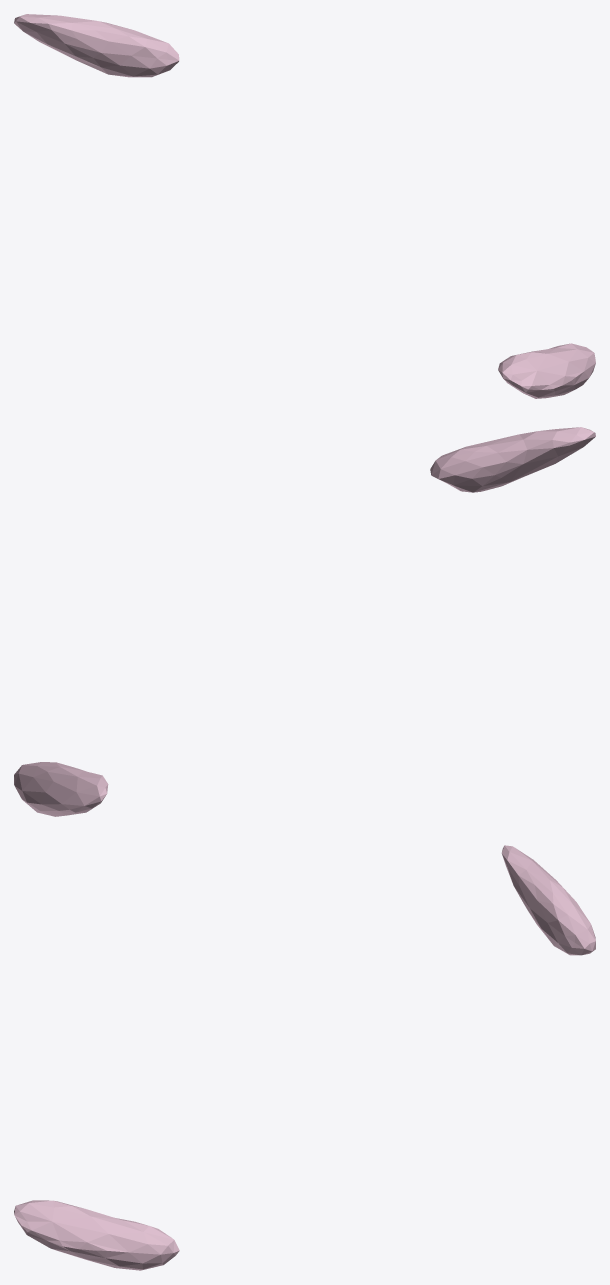
3 views of the same model, one above another, from view 1: azimuth 30°, elevation 25°; view 2: azimuth 150°, elevation 25°; view 3: azimuth 330°, elevation 25° (orthographic).
Visible parts, largest first — view 1: 765.obj; view 2: 765.obj; view 3: 765.obj.
Part boxes in pixels (left/top/right/bottom): 765.obj: left=14, top=14, right=595, bottom=398; 765.obj: left=14, top=427, right=595, bottom=816; 765.obj: left=14, top=845, right=595, bottom=1270.
Size of the model in its own units: 575 by 276 by 3862.
